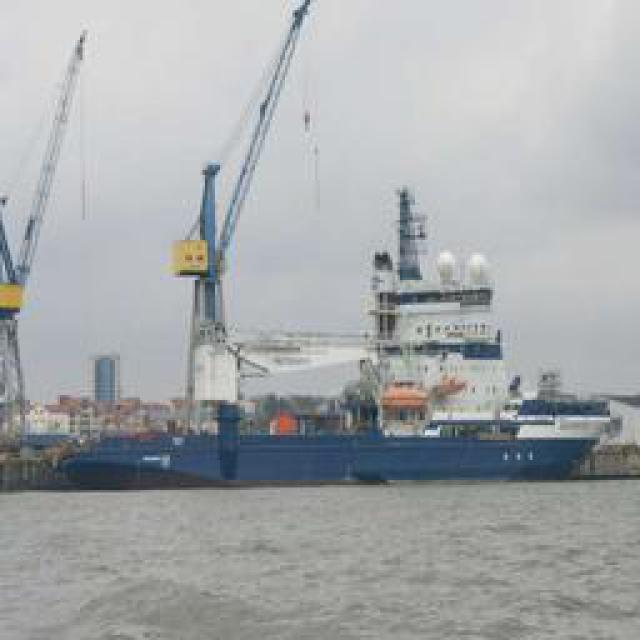Ship: (56, 406, 604, 486)
